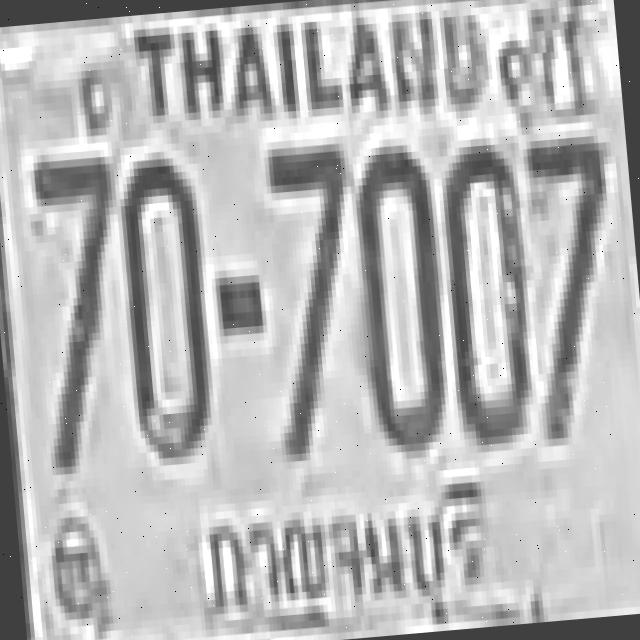0: (344, 136, 450, 447), (430, 136, 536, 440), (112, 149, 214, 460)
7: (259, 136, 365, 454), (27, 150, 132, 468), (518, 132, 623, 436)
Kanchanaburi: (191, 455, 494, 640)
